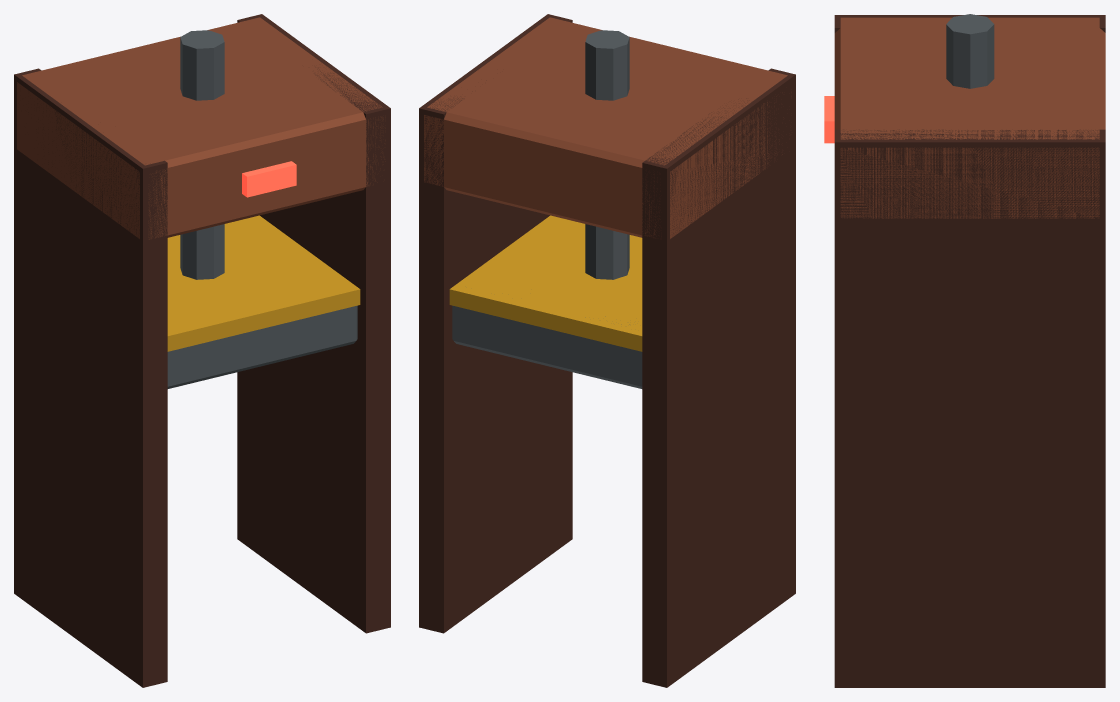
Rendered from piston.glb.
3 renders of one model, left to right at view 1: azimuth 30°, elevation 25°; view 2: azimuth 150°, elevation 25°; view 3: azimuth 270°, elevation 25°, orthographic. The views are drawn at different scales.
Parts seen in each view (by area): view 1: frame-1, frame1, housing, ram_hazard, ram, rod, warn_emit; view 2: frame-1, frame1, housing, ram_hazard, ram, rod; view 3: frame1, housing, rod, frame-1, warn_emit.
Part boxes in pixels (x1,y1,x2,y2): frame-1: [14, 68, 167, 687]; frame1: [237, 14, 390, 633]; housing: [17, 17, 385, 239]; ram_hazard: [167, 215, 360, 351]; ram: [167, 305, 357, 388]; rod: [180, 30, 224, 279]; warn_emit: [242, 161, 296, 197]; frame-1: [642, 68, 795, 687]; frame1: [419, 14, 572, 633]; housing: [424, 17, 791, 238]; ram_hazard: [449, 215, 642, 351]; ram: [452, 305, 642, 388]; rod: [585, 30, 629, 279]; frame1: [834, 129, 1105, 687]; housing: [834, 17, 1105, 218]; rod: [946, 14, 994, 88]; frame-1: [834, 15, 1105, 32]; warn_emit: [824, 96, 834, 143].
Size of the model in its own units: 1 by 2.2 by 0.935.
